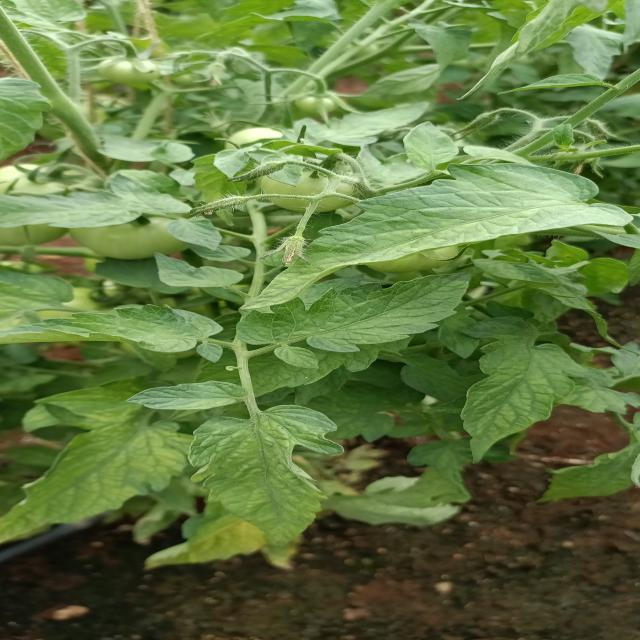Healthy Leaf: (281, 155, 631, 293), (195, 415, 383, 570), (258, 271, 470, 382), (450, 330, 584, 471), (118, 382, 262, 412)
